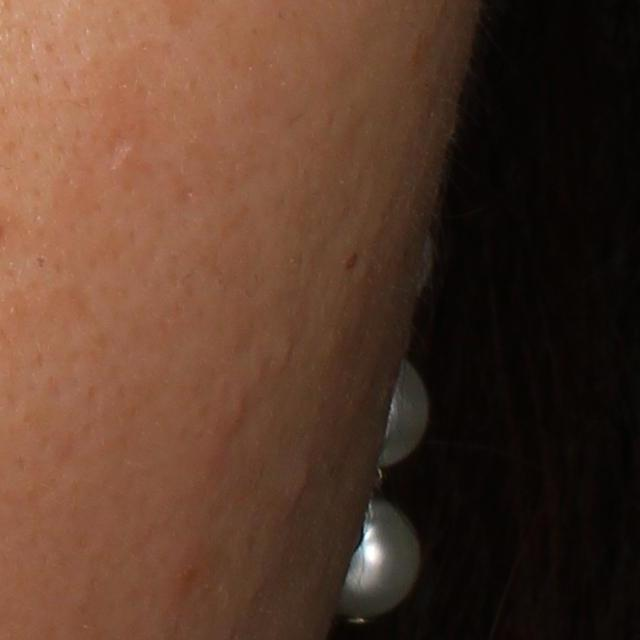atrophic_scar: (109, 133, 130, 167)
papule: (220, 397, 245, 435)
